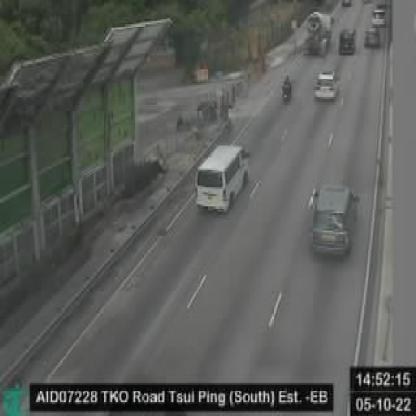Car: (198, 140, 248, 210), (311, 184, 356, 256), (315, 69, 338, 99), (339, 28, 355, 57), (364, 24, 380, 47)
Truck: (300, 10, 332, 54)
